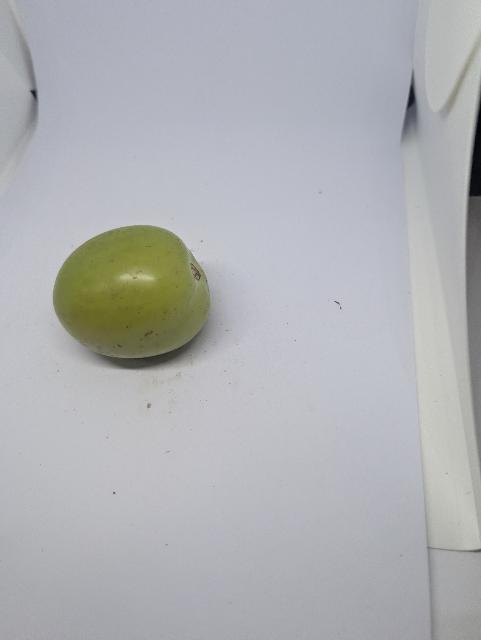green: (51, 222, 214, 361)
